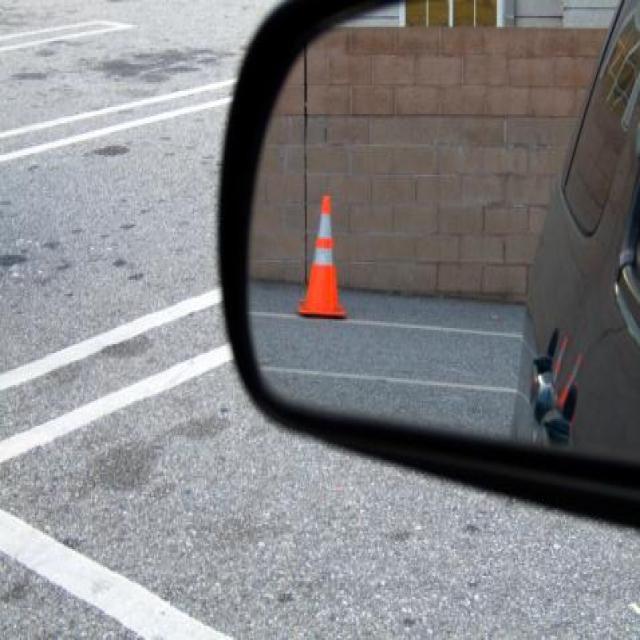Cone: (301, 196, 347, 319)
